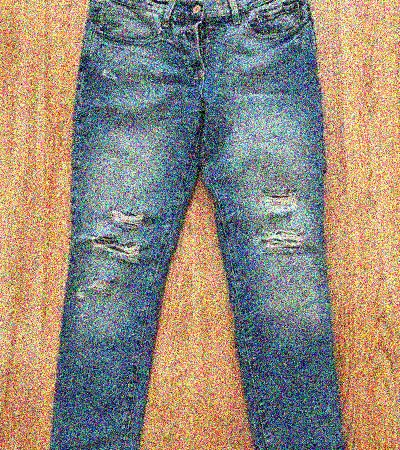Pants: (34, 10, 353, 448)
